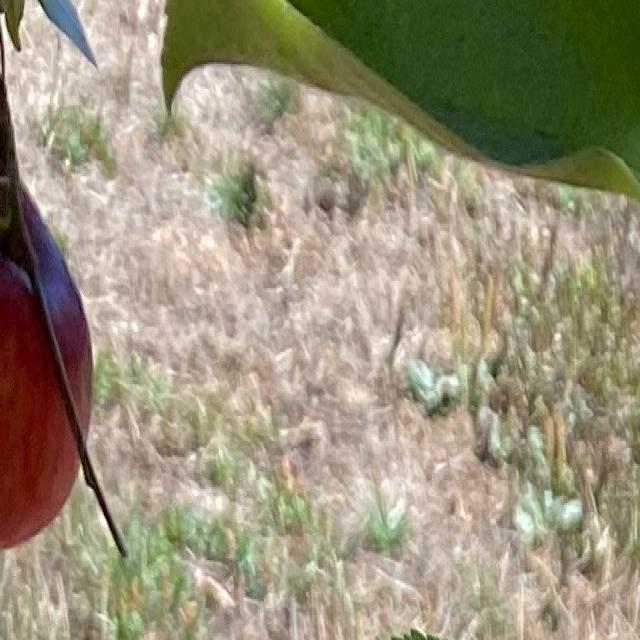Apples: (0, 182, 93, 550)
